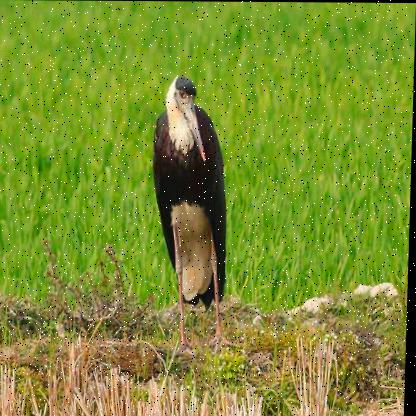Burung: (146, 64, 233, 353)
